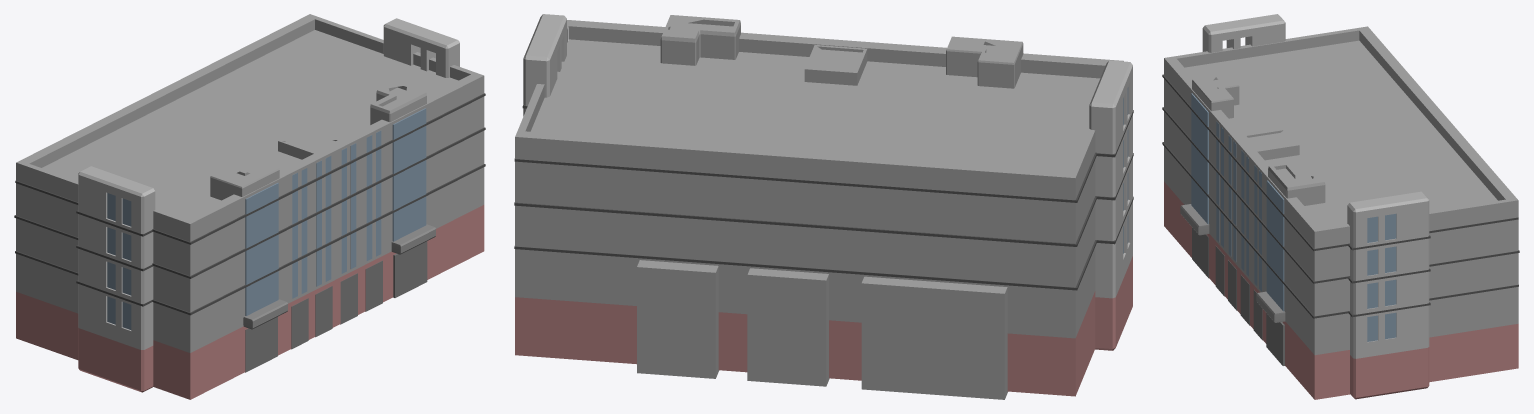
3 views of the same model, side by side, from view 1: azimuth 30°, elevation 25°; view 2: azimuth 150°, elevation 25°; view 3: azimuth 270°, elevation 25° (orthographic). The views are drawn at different scales.
Visible parts, largest first — view 1: building_01_003:MAIN_BUILDING1 polySurface2 group1, building_01_003:EEEE2 building_01_003:group polySurface2 gro, building_01_003:pCube77 building_01_003:window_front polySur, building_01_003:pCube50 building_01_003:window_front polySur, building_01_003:EEEE1 building_01_003:group polySurface2 gro, building_01_003:pPlane2 polySurface2 group1, building_01_003:Rooftop building_01_003:pCube3 polySurface2 , building_01_003:Rooftop building_01_003:pCube2 polySurface2 , building_01_003:pCube48 building_01_003:window_front polySur, building_01_003:pCube49 building_01_003:window_front polySur, building_01_003:Rooftop building_01_003:pCube21 polySurface2, building_01_003:pCube45 polySurface2 group1 (+16 smaller); view 2: building_01_003:MAIN_BUILDING1 polySurface2 group1, building_01_003:group1 building_01_003:group2 building_01_00 (×3), building_01_003:EEEE2 building_01_003:group polySurface2 gro, building_01_003:Rooftop building_01_003:pCube2 polySurface2 , building_01_003:Rooftop building_01_003:pCube3 polySurface2 , building_01_003:EEEE1 building_01_003:group polySurface2 gro, building_01_003:pCube75 polySurface2 group1, building_01_003:Rooftop building_01_003:pCube21 polySurface2, building_01_003:pCube76 polySurface2 group1, building_01_003:pCube74 polySurface2 group1; view 3: building_01_003:MAIN_BUILDING1 polySurface2 group1, building_01_003:EEEE1 building_01_003:group polySurface2 gro, building_01_003:pPlane1 polySurface2 group1, building_01_003:EEEE2 building_01_003:group polySurface2 gro, building_01_003:pCube77 building_01_003:window_front polySur, building_01_003:pCube50 building_01_003:window_front polySur, building_01_003:Rooftop building_01_003:pCube2 polySurface2 , building_01_003:Rooftop building_01_003:pCube3 polySurface2 , building_01_003:Rooftop building_01_003:pCube21 polySurface2, building_01_003:pCube46 polySurface2 group1, building_01_003:pCube47 polySurface2 group1, building_01_003:pCube45 polySurface2 group1 (+16 smaller).
Boxes of the visible parts, x1=… form: building_01_003:MAIN_BUILDING1 polySurface2 group1: x1=16, y1=14, x2=484, y2=399; building_01_003:EEEE2 building_01_003:group polySurface2 gro: x1=78, y1=166, x2=155, y2=392; building_01_003:pCube77 building_01_003:window_front polySur: x1=392, y1=108, x2=426, y2=241; building_01_003:pCube50 building_01_003:window_front polySur: x1=245, y1=183, x2=278, y2=315; building_01_003:EEEE1 building_01_003:group polySurface2 gro: x1=383, y1=18, x2=459, y2=77; building_01_003:pPlane2 polySurface2 group1: x1=107, y1=193, x2=131, y2=329; building_01_003:Rooftop building_01_003:pCube3 polySurface2 : x1=210, y1=161, x2=279, y2=200; building_01_003:Rooftop building_01_003:pCube2 polySurface2 : x1=370, y1=81, x2=426, y2=124; building_01_003:pCube48 building_01_003:window_front polySur: x1=393, y1=241, x2=427, y2=297; building_01_003:pCube49 building_01_003:window_front polySur: x1=245, y1=317, x2=277, y2=372; building_01_003:Rooftop building_01_003:pCube21 polySurface2: x1=278, y1=127, x2=341, y2=159; building_01_003:pCube45 polySurface2 group1: x1=152, y1=93, x2=485, y2=244; building_01_003:MAIN_BUILDING1 polySurface2 group1: x1=515, y1=20, x2=1123, y2=396; building_01_003:group1 building_01_003:group2 building_01_00 (×3): x1=637, y1=260, x2=1007, y2=399; building_01_003:EEEE2 building_01_003:group polySurface2 gro: x1=1089, y1=60, x2=1132, y2=350; building_01_003:Rooftop building_01_003:pCube2 polySurface2 : x1=660, y1=15, x2=740, y2=65; building_01_003:Rooftop building_01_003:pCube3 polySurface2 : x1=946, y1=36, x2=1023, y2=88; building_01_003:EEEE1 building_01_003:group polySurface2 gro: x1=523, y1=14, x2=566, y2=116; building_01_003:pCube75 polySurface2 group1: x1=514, y1=196, x2=1096, y2=246; building_01_003:Rooftop building_01_003:pCube21 polySurface2: x1=804, y1=45, x2=867, y2=85; building_01_003:pCube76 polySurface2 group1: x1=514, y1=240, x2=1096, y2=290; building_01_003:pCube74 polySurface2 group1: x1=514, y1=152, x2=1096, y2=202; building_01_003:MAIN_BUILDING1 polySurface2 group1: x1=1164, y1=26, x2=1518, y2=399; building_01_003:EEEE1 building_01_003:group polySurface2 gro: x1=1347, y1=191, x2=1429, y2=399; building_01_003:pPlane1 polySurface2 group1: x1=1367, y1=214, x2=1396, y2=341; building_01_003:EEEE2 building_01_003:group polySurface2 gro: x1=1202, y1=14, x2=1285, y2=52; building_01_003:pCube77 building_01_003:window_front polySur: x1=1266, y1=180, x2=1284, y2=311; building_01_003:pCube50 building_01_003:window_front polySur: x1=1191, y1=93, x2=1208, y2=224; building_01_003:Rooftop building_01_003:pCube2 polySurface2 : x1=1268, y1=162, x2=1325, y2=205; building_01_003:Rooftop building_01_003:pCube3 polySurface2 : x1=1192, y1=74, x2=1239, y2=118; building_01_003:Rooftop building_01_003:pCube21 polySurface2: x1=1243, y1=129, x2=1299, y2=160; building_01_003:pCube46 polySurface2 group1: x1=1162, y1=107, x2=1350, y2=283; building_01_003:pCube47 polySurface2 group1: x1=1162, y1=142, x2=1348, y2=318; building_01_003:pCube45 polySurface2 group1: x1=1162, y1=74, x2=1349, y2=251.
Size of the model in its own units: 5.42 by 2.33 by 3.96.
